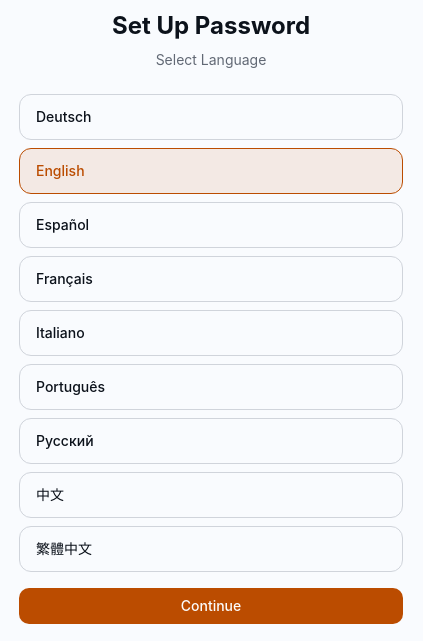
Test: SetupPage › language step › shows "Continue" button that advances to password step
The width and height of the screenshot is (423, 641).
Click the button "Continue" at (211,606), box [19,588,403,624]
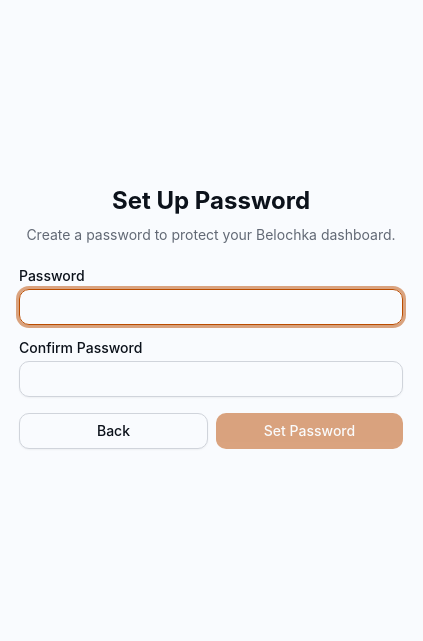
Check: the password field labelled "Password" is shown, box [19,289,403,325]
Check: the password field labelled "Confirm Password" is shown, box [19,361,403,397]
